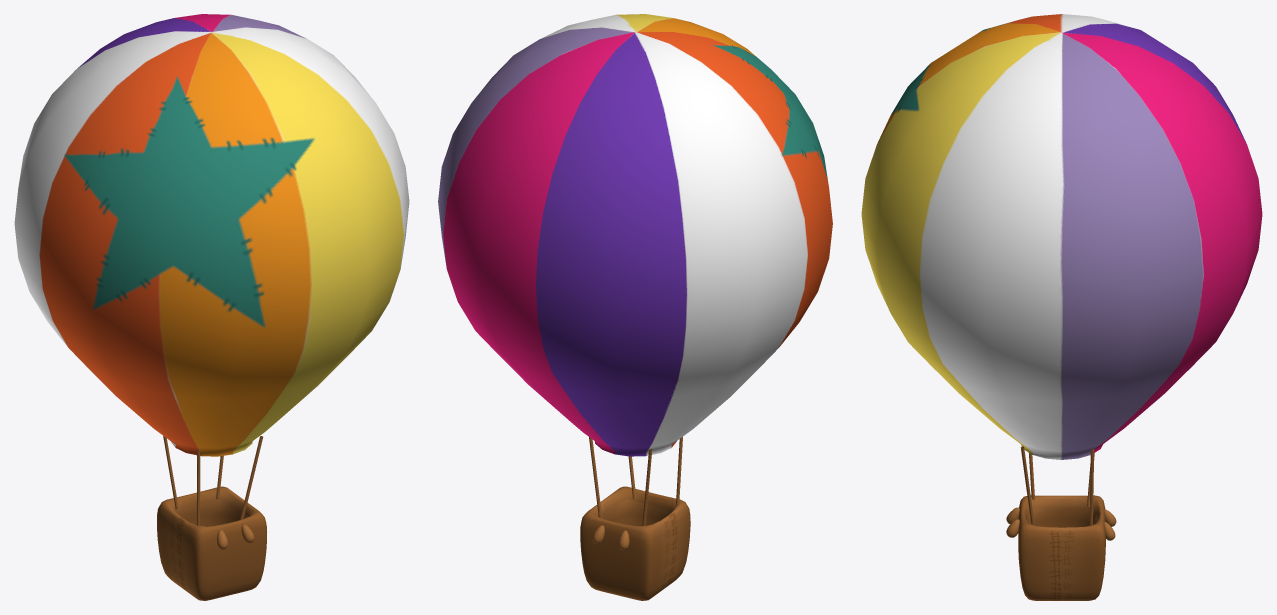
The model's file is low_poly_hot_air_balloon.glb.
3 renders of one model, left to right at view 1: azimuth 30°, elevation 25°; view 2: azimuth 150°, elevation 25°; view 3: azimuth 270°, elevation 25°, orthographic.
Visible parts, largest first — view 1: Cube; view 2: Cube; view 3: Cube.
Boxes of the visible parts, <box> form: Cube: <box>14,14,409,600</box>; Cube: <box>438,14,832,600</box>; Cube: <box>861,14,1262,600</box>.
Bounding box in the file's own units: 657 × 1006 × 657.
1 material, 1 textured.
